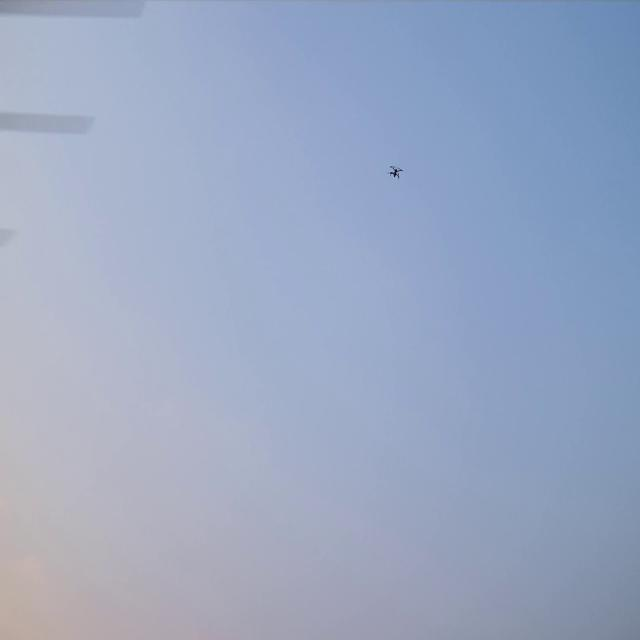UAV: (390, 166, 402, 177)
